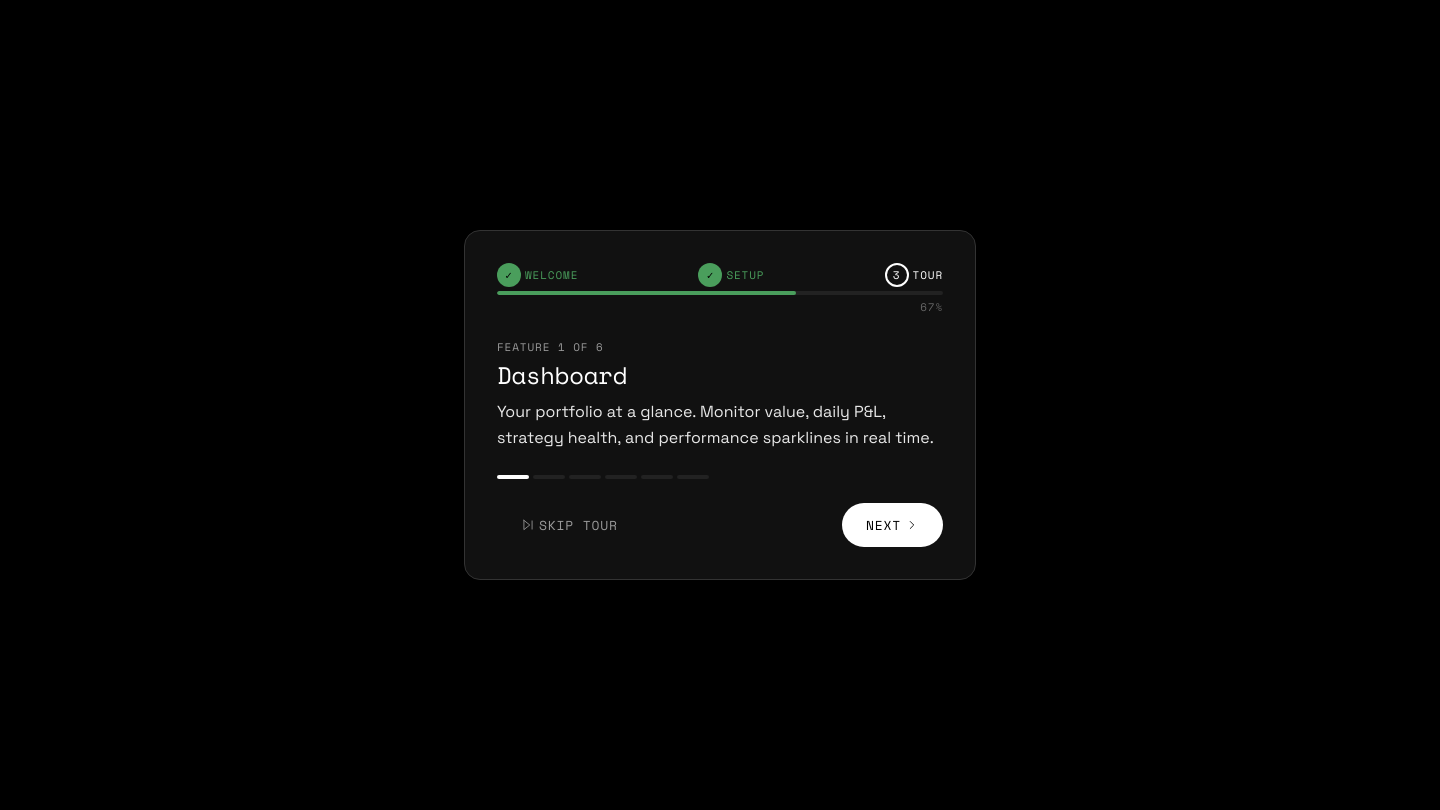
it: FeatureTour › shows finish button on last feature
The image size is (1440, 810).
What coordinates should you click on to do the following:
click the button "NEXT"
I would click on:
 (892, 525)
Its box is [842, 503, 943, 547].
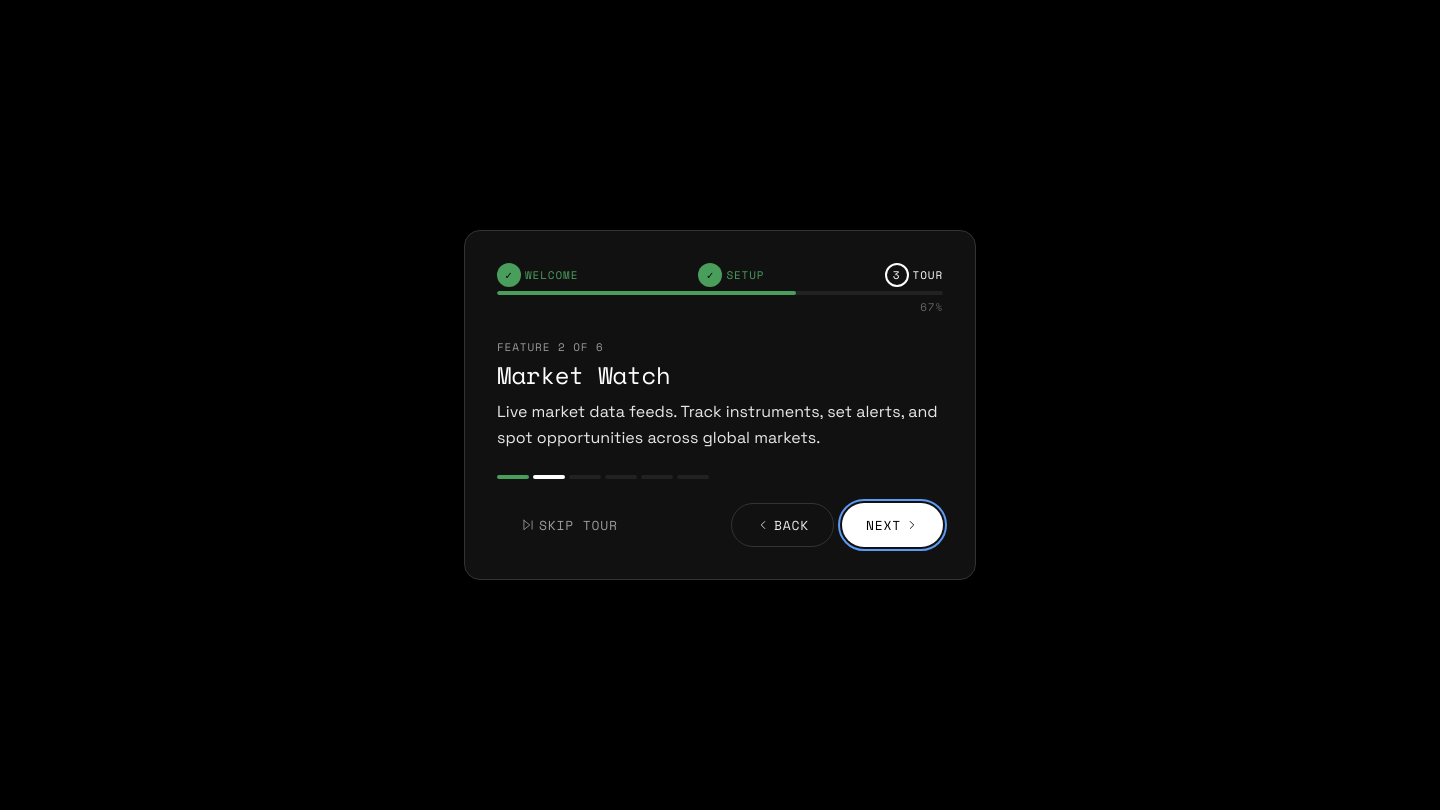
What coordinates should you click on to do the following:
click the button "NEXT"
I would click on:
 (892, 525)
Its box is [842, 503, 943, 547].
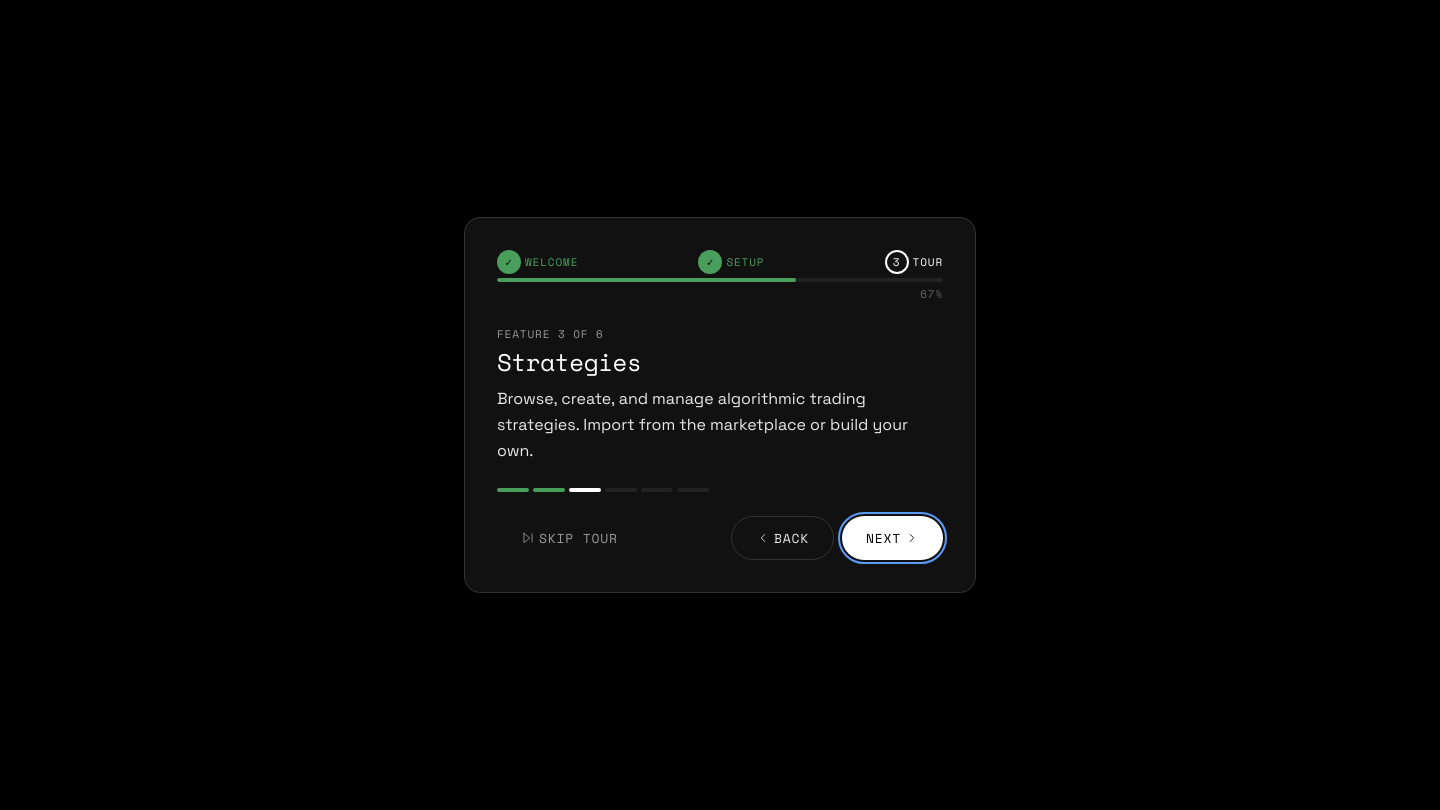
What coordinates should you click on to do the following:
click the button "NEXT"
I would click on:
 (892, 538)
Its box is [842, 516, 943, 560].
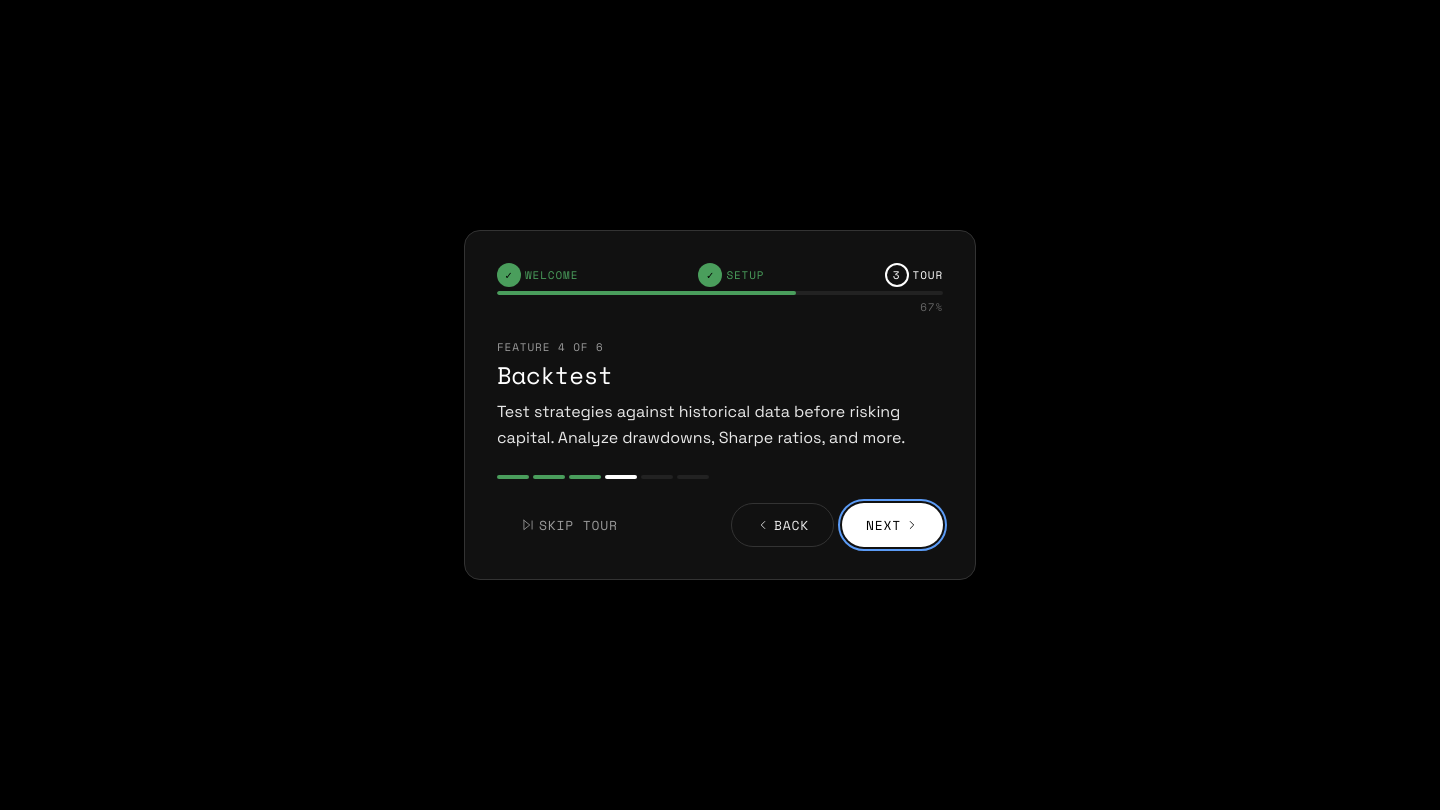
What coordinates should you click on to do the following:
click the button "NEXT"
I would click on:
 (892, 525)
Its box is [842, 503, 943, 547].
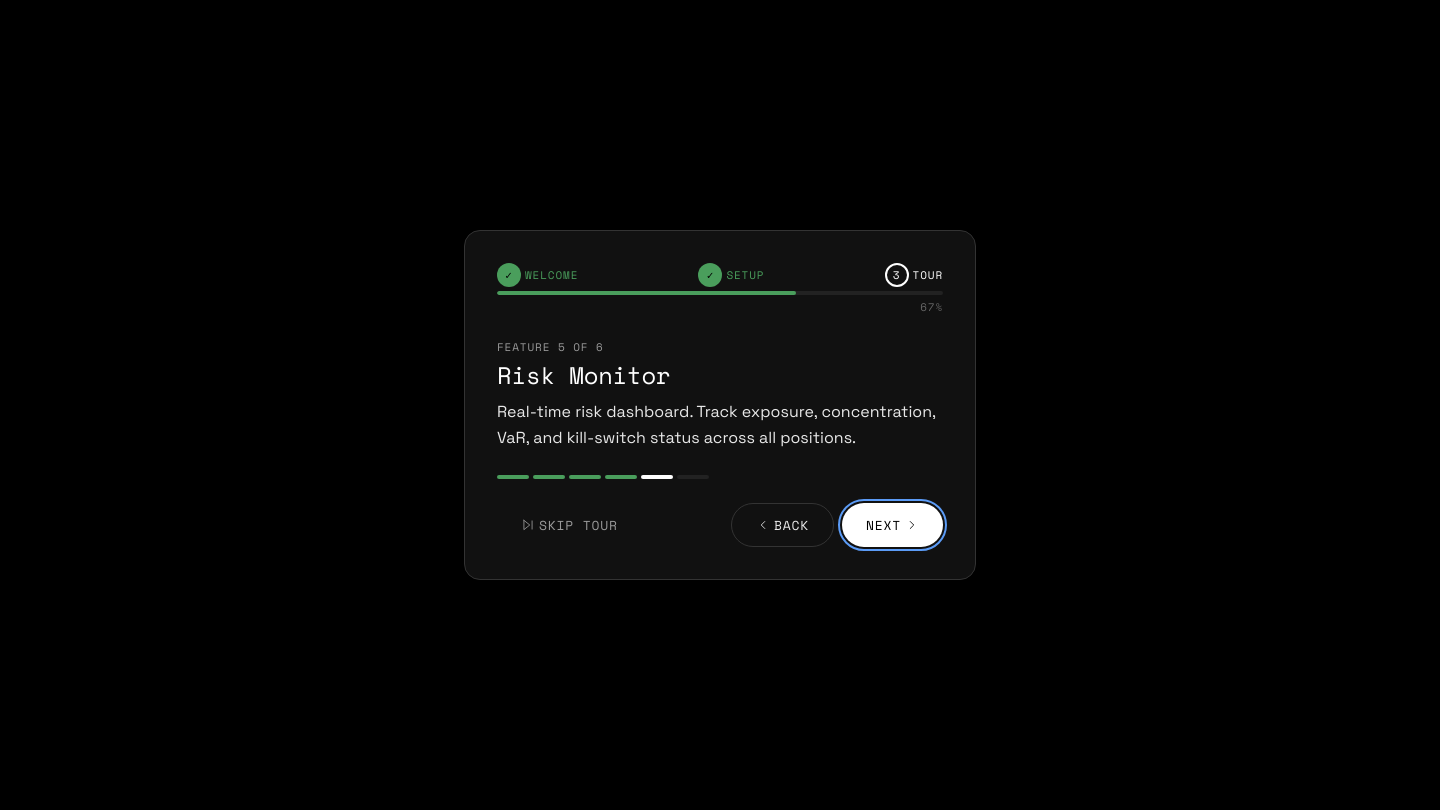
What coordinates should you click on to do the following:
click the button "NEXT"
I would click on:
 (892, 525)
Its box is [842, 503, 943, 547].
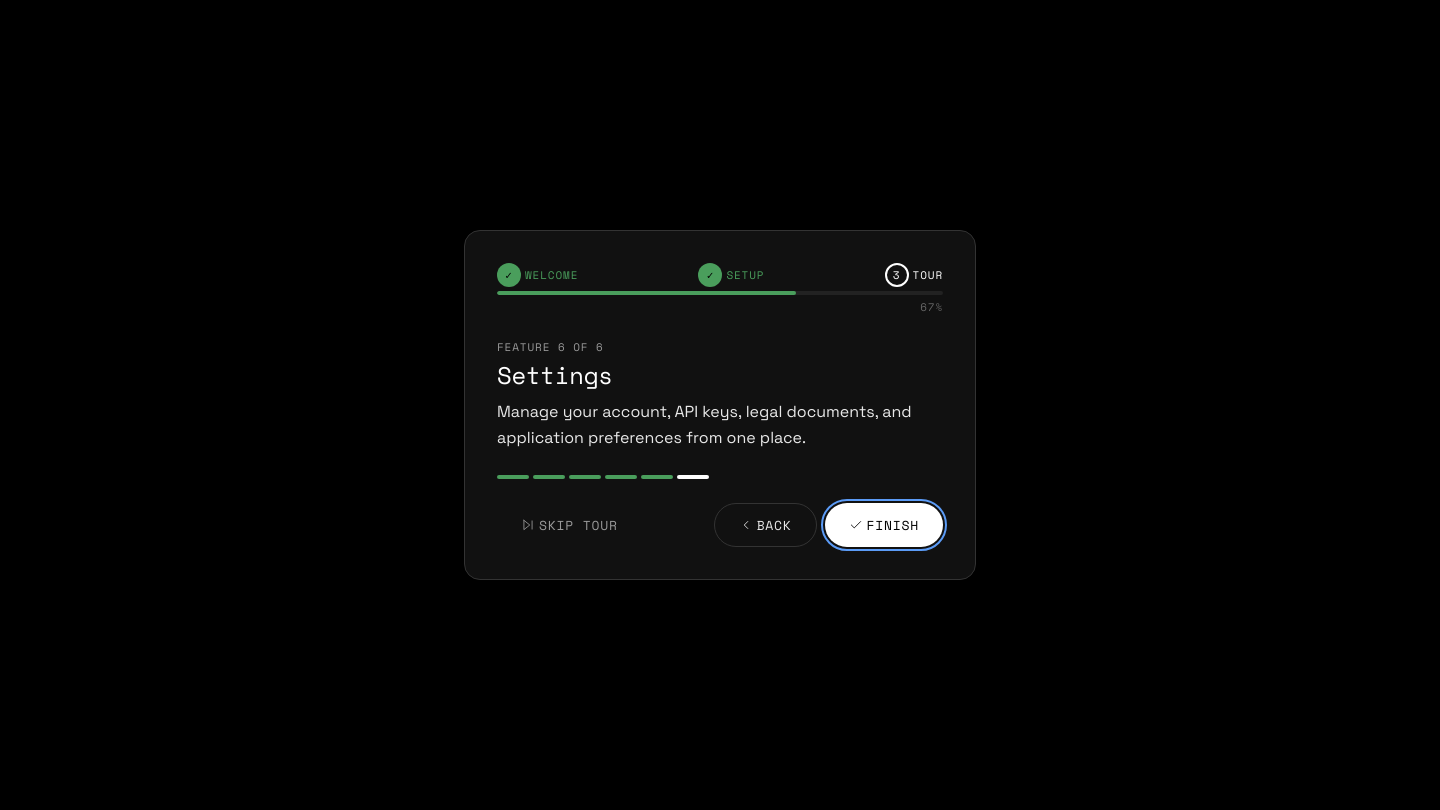
Expected: the button "FINISH" is shown, [825, 503, 943, 547]
